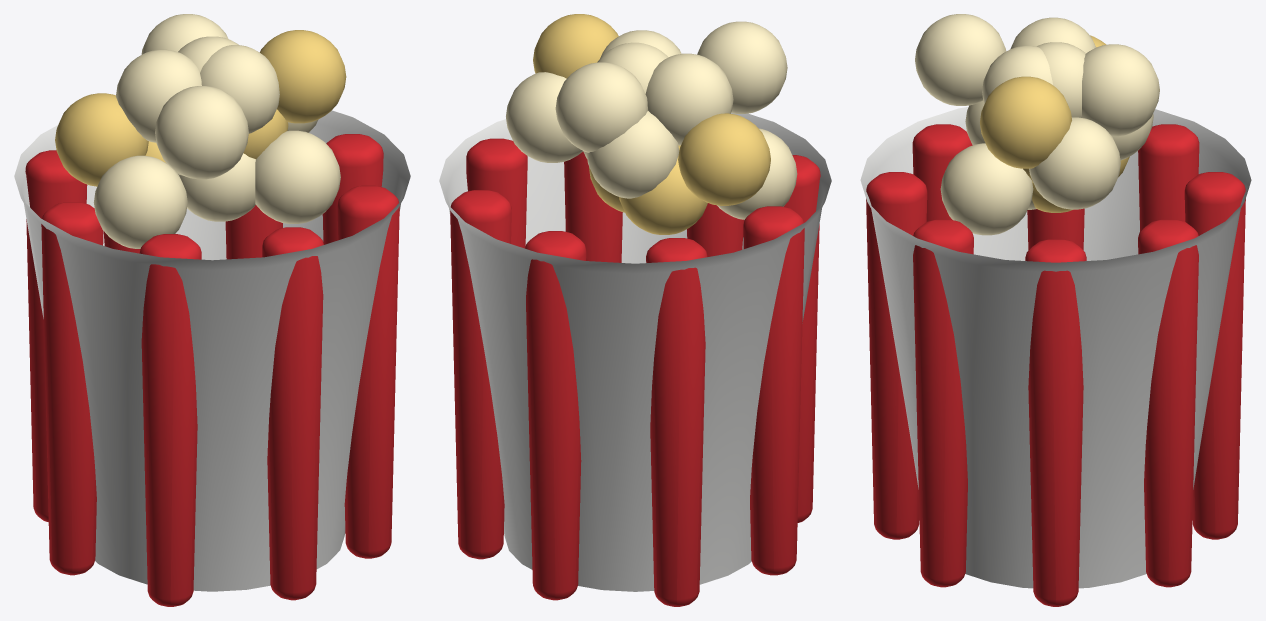
The model's file is popcorn.glb.
The picture shows the model from 3 angles, left to right: view 1: azimuth 30°, elevation 25°; view 2: azimuth 150°, elevation 25°; view 3: azimuth 270°, elevation 25°; orthographic projection.
Visible parts, largest first — view 1: popcorn; view 2: popcorn; view 3: popcorn.
Part boxes in pixels (x1,y1,x2,y2): popcorn: (14, 14, 410, 606); popcorn: (439, 14, 831, 606); popcorn: (860, 14, 1251, 606).
Bounding box in the file's own units: 0.27 × 0.372 × 0.27.
